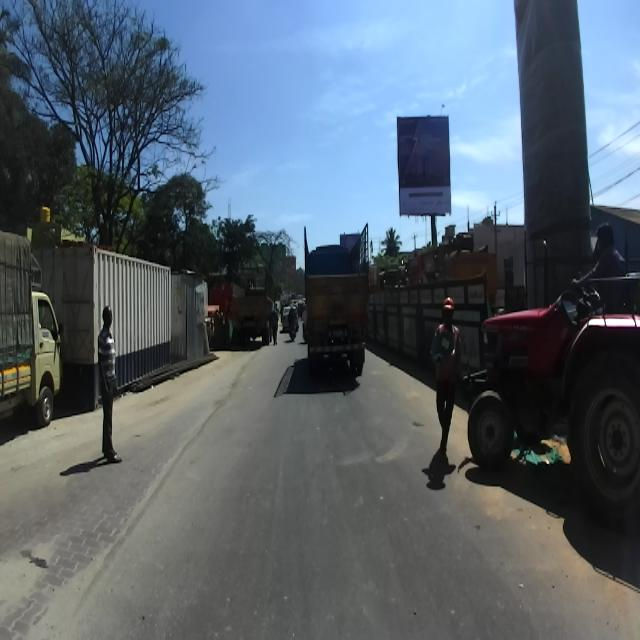person ahead at: (430, 289, 460, 486), (98, 299, 124, 473)
truck ahead at: (477, 200, 640, 506), (0, 232, 60, 433), (296, 223, 369, 377)
